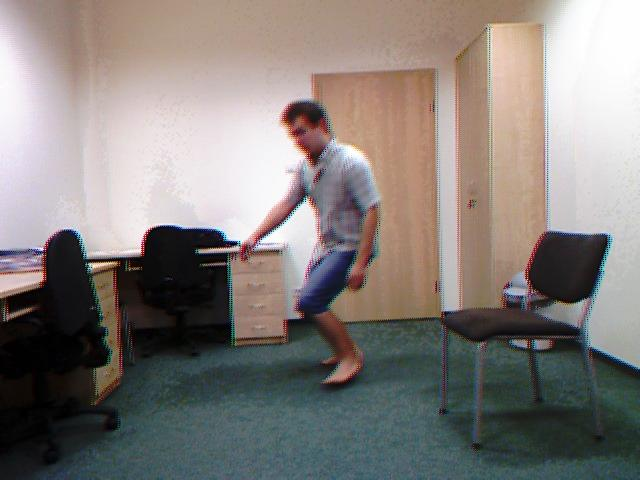near-fall: (233, 90, 401, 396)
